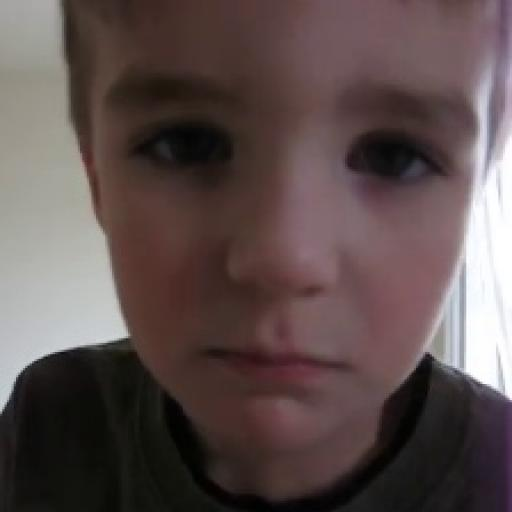Autism: (96, 0, 441, 496)
